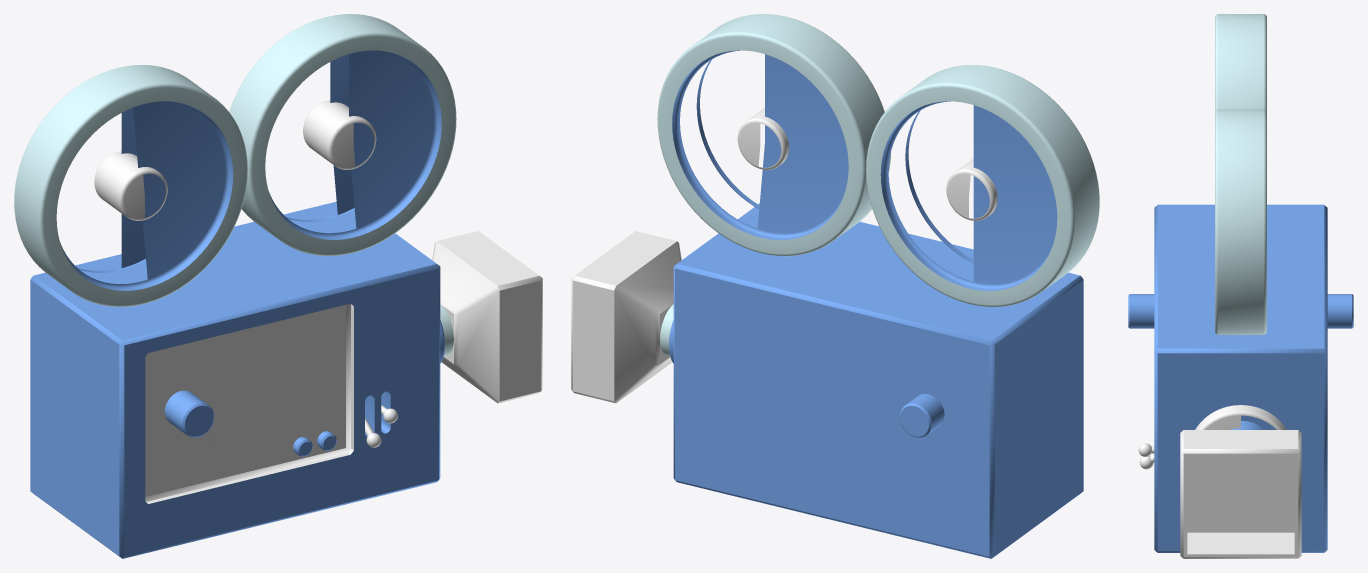
File: camera.glb
3 renders of one model, left to right at view 1: azimuth 30°, elevation 25°; view 2: azimuth 150°, elevation 25°; view 3: azimuth 270°, elevation 25°, orthographic. The views are drawn at different scales.
Visible parts, largest first — view 1: camera; view 2: camera; view 3: camera.
Part boxes in pixels (x1,y1,x2,y2): camera: [14, 14, 542, 558]; camera: [571, 14, 1099, 558]; camera: [1128, 14, 1353, 558].
Size of the model in its own units: 2.36 by 2.03 by 1.01.
